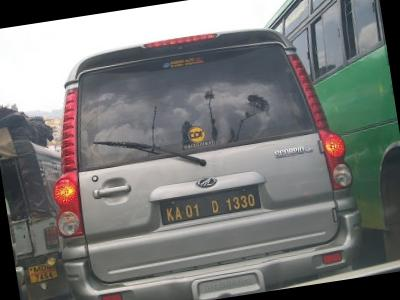plate: (135, 171, 273, 234)
